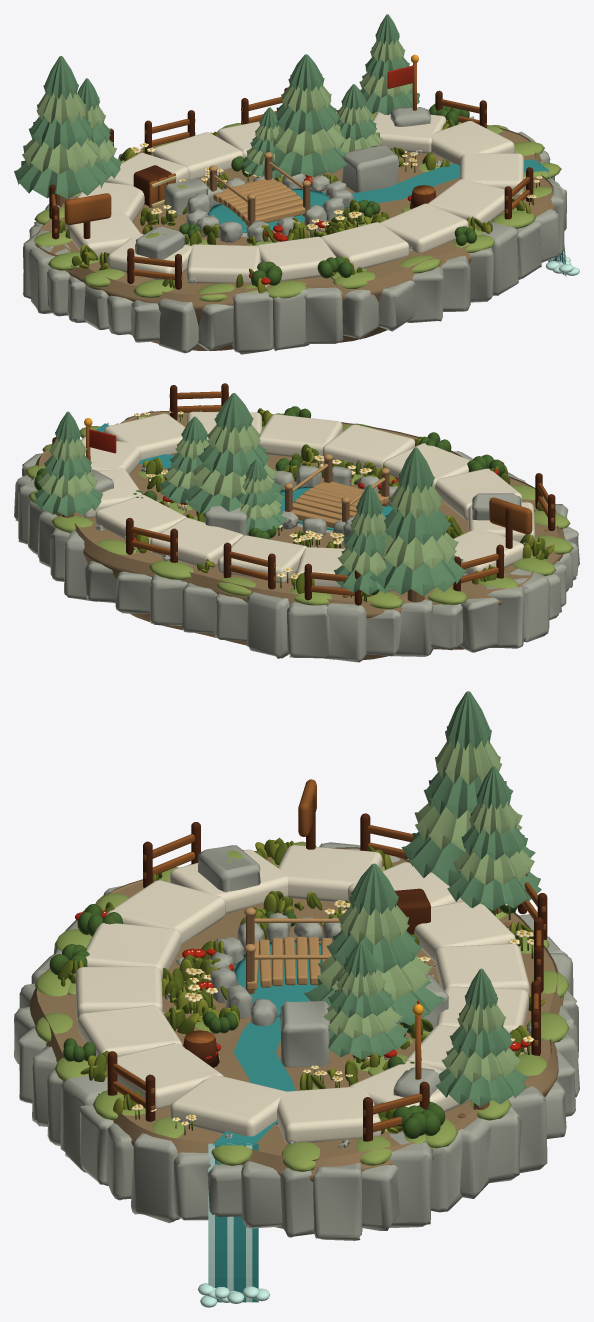
Rendered from WoodlandHero.fbx.
The picture shows the model from 3 angles, top to bottom: view 1: azimuth 30°, elevation 25°; view 2: azimuth 150°, elevation 25°; view 3: azimuth 270°, elevation 25°; orthographic projection. The views are drawn at different scales.
Parts seen in each view (by area): view 1: Ancient earth island, Tile_00, Tile_02, Tile_14, Cliff block.029, Tile_07, Tile_11, Tile_01, Tile_13, Feature boulder, Cedar layered crown.015, Cliff block.031 (+71 smaller); view 2: Ancient earth island, Tile_14, Tile_00, Cliff block.013, Tile_08, Tile_09, Cliff block.014, Tile_12, Cedar layered crown.015, Cliff block.015, Tile_07, Tile_02 (+74 smaller); view 3: Ancient earth island, Tile_12, Tile_11, Tile_02, Tile_04, Tile_14, Tile_00, Tile_01, Tile_13, Cliff block.001, Tile_07, Cliff block.040 (+65 smaller).
Boxes of the visible parts, x1,y1,x2,y2 form: Ancient earth island: (36, 110, 554, 351); Tile_00: (321, 222, 409, 269); Tile_02: (186, 244, 260, 283); Tile_14: (380, 203, 468, 252); Cliff block.029: (232, 291, 273, 354); Tile_07: (152, 132, 243, 179); Tile_11: (430, 121, 514, 165); Tile_01: (256, 236, 337, 280); Tile_13: (428, 179, 512, 228); Feature boulder: (342, 145, 398, 192); Cedar layered crown.015: (14, 160, 107, 198); Cliff block.031: (304, 287, 343, 344); Ancient earth island: (31, 411, 565, 659); Tile_14: (259, 414, 342, 456); Tile_00: (322, 424, 415, 473); Cliff block.013: (246, 592, 289, 658); Tile_08: (150, 518, 243, 568); Tile_09: (95, 495, 187, 543); Cliff block.014: (287, 602, 330, 658); Tile_12: (104, 413, 185, 459); Cedar layered crown.015: (369, 555, 466, 596); Cliff block.015: (326, 603, 366, 662); Tile_07: (217, 535, 307, 583); Tile_02: (435, 468, 522, 519); Ancient earth island: (29, 847, 564, 1228); Tile_12: (170, 1075, 286, 1136); Tile_11: (277, 1086, 381, 1144); Tile_02: (106, 880, 225, 944); Tile_04: (277, 845, 382, 902); Tile_14: (78, 1005, 182, 1057); Tile_00: (75, 966, 162, 1020); Tile_01: (85, 923, 181, 978); Tile_13: (106, 1043, 223, 1109); Cliff block.001: (313, 1163, 362, 1240); Tile_07: (435, 943, 529, 995); Cliff block.040: (131, 1133, 180, 1222).
Size of the model in its own units: 889 by 425 by 644.
